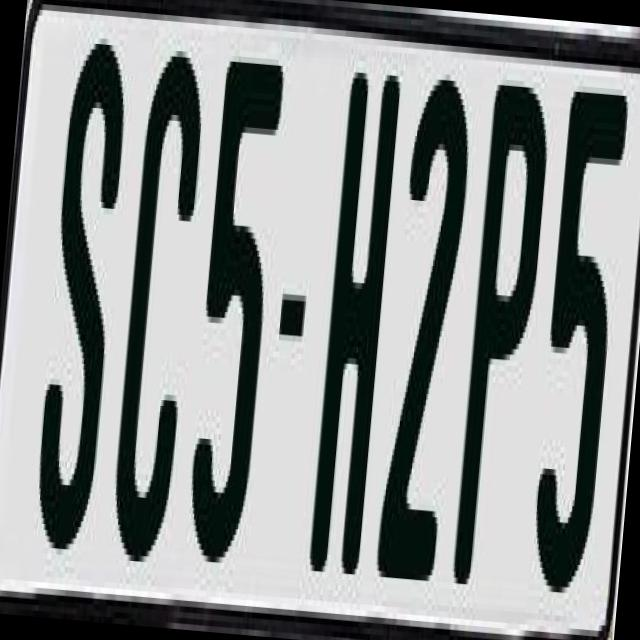2: (372, 65, 474, 580)
5: (525, 73, 635, 589), (182, 61, 284, 570)
C: (105, 36, 209, 563)
H: (304, 66, 400, 574)
P: (448, 66, 558, 576)
S: (31, 36, 131, 556)
